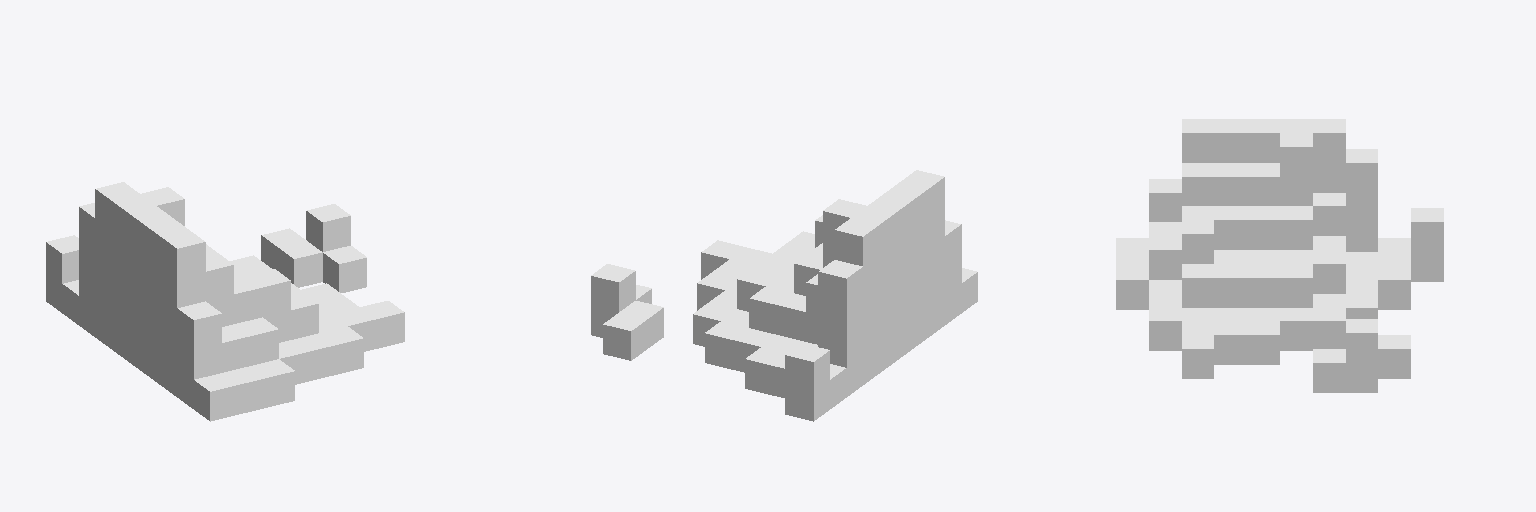
The model's file is Stein_lose-1.0.obj.
3 renders of one model, left to right at view 1: azimuth 30°, elevation 25°; view 2: azimuth 150°, elevation 25°; view 3: azimuth 270°, elevation 25°, orthographic.
Visible parts, largest first — view 1: object 1; view 2: object 1; view 3: object 1.
Part boxes in pixels (x1,y1,x2,y2): object 1: (46, 182, 404, 421); object 1: (591, 170, 977, 421); object 1: (1116, 119, 1443, 392).
Bounding box in the file's own units: 0.9 × 0.5 × 1.